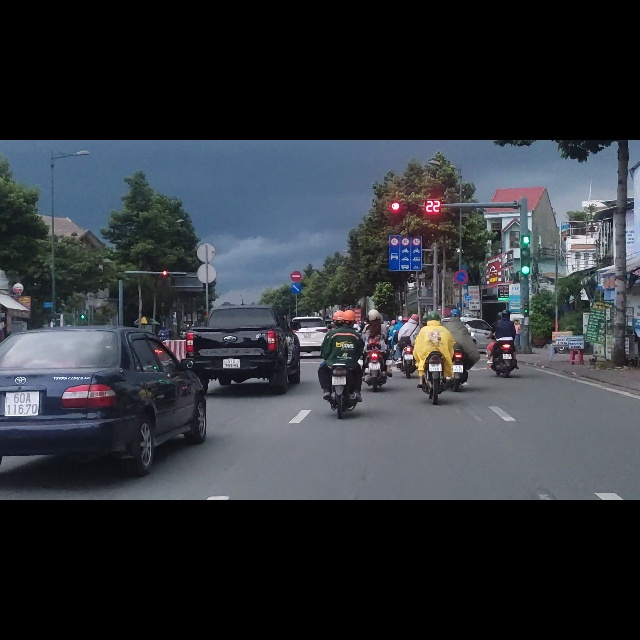bien_hieu_lenh: (389, 189, 422, 231), (453, 231, 468, 257), (291, 232, 302, 252), (291, 254, 302, 273), (390, 173, 399, 188), (413, 172, 421, 188), (401, 172, 409, 187)
